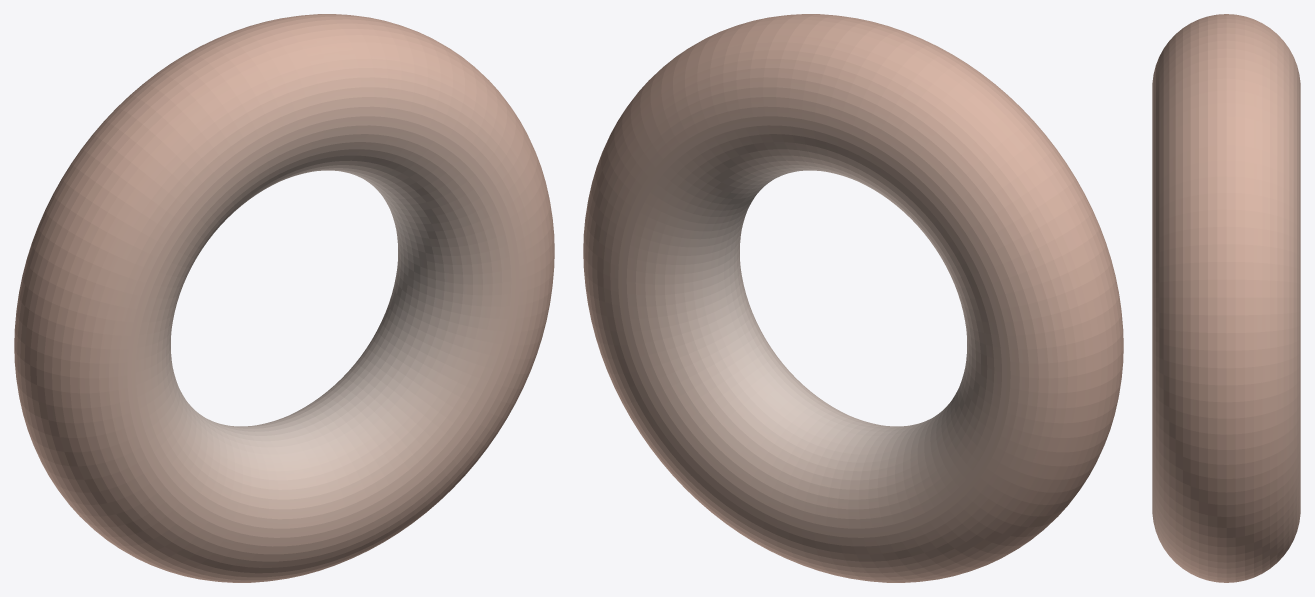
3 views of the same model, side by side, from view 1: azimuth 30°, elevation 25°; view 2: azimuth 150°, elevation 25°; view 3: azimuth 270°, elevation 25° (orthographic). The views are drawn at different scales.
Visible parts, largest first — view 1: world; view 2: world; view 3: world.
Boxes of the visible parts, x1,y1,x2,y2 form: world: [14, 14, 554, 582]; world: [583, 14, 1123, 582]; world: [1152, 14, 1300, 582].
Size of the model in its own units: 27.07 by 27.07 by 7.05.
